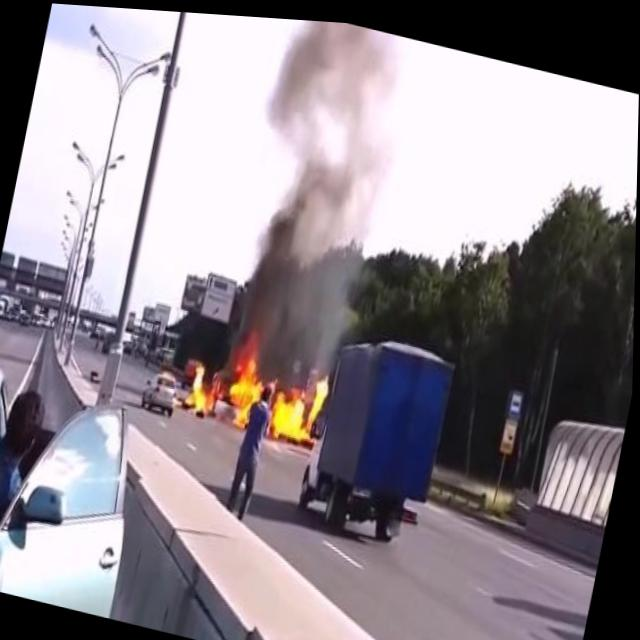fire: (183, 336, 267, 427), (267, 357, 334, 443)
